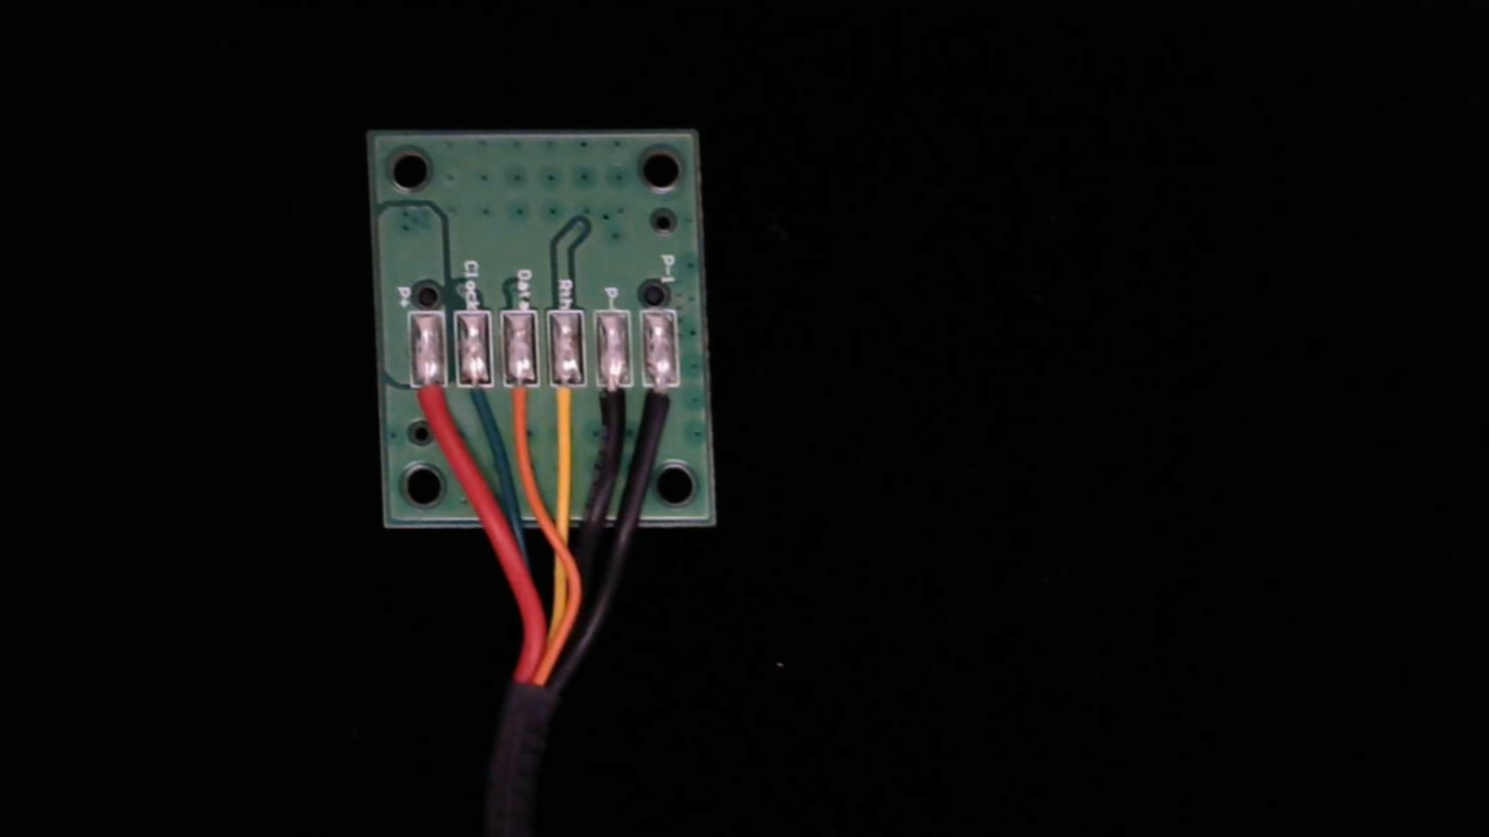Black: (596, 365, 635, 445)
Black1: (643, 365, 681, 437)
Green: (455, 365, 494, 439)
Orange: (502, 366, 539, 440)
Red: (411, 370, 451, 452)
Yellow: (550, 363, 587, 447)
